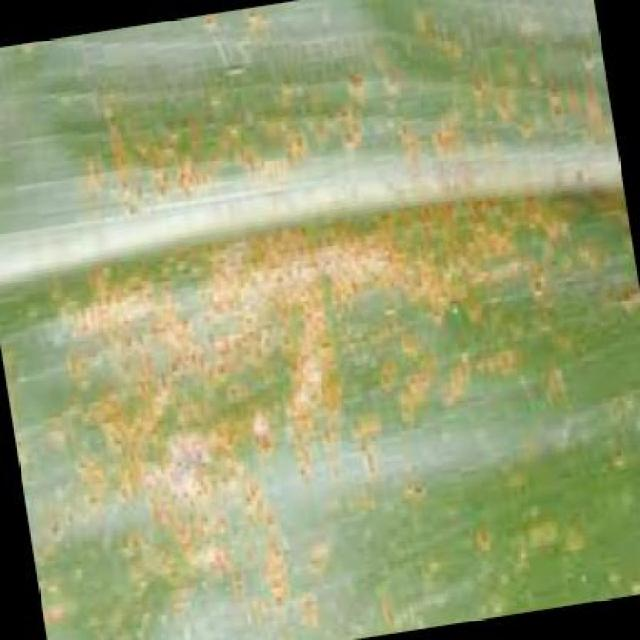Corn_Rust: (63, 55, 603, 600)
